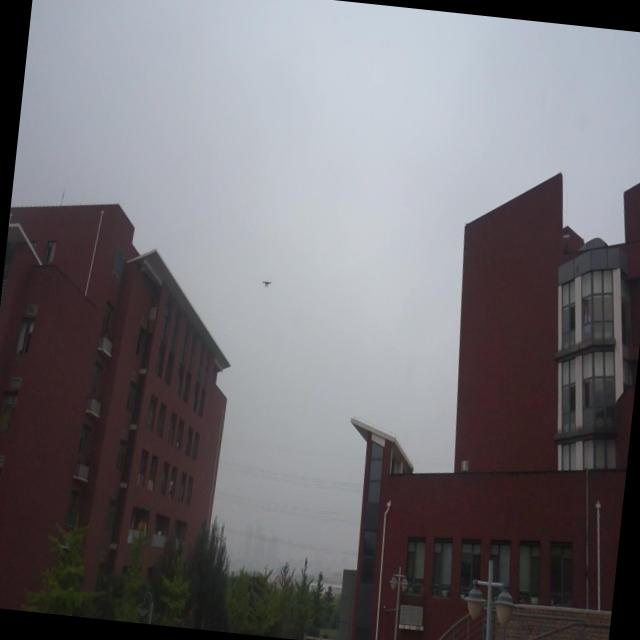drone: (260, 276, 272, 292)
